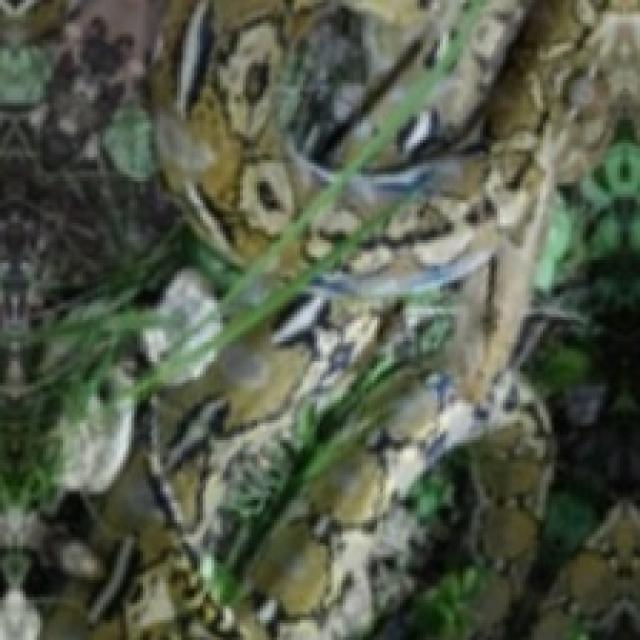reticulated python: (89, 4, 640, 640), (532, 501, 640, 640)
